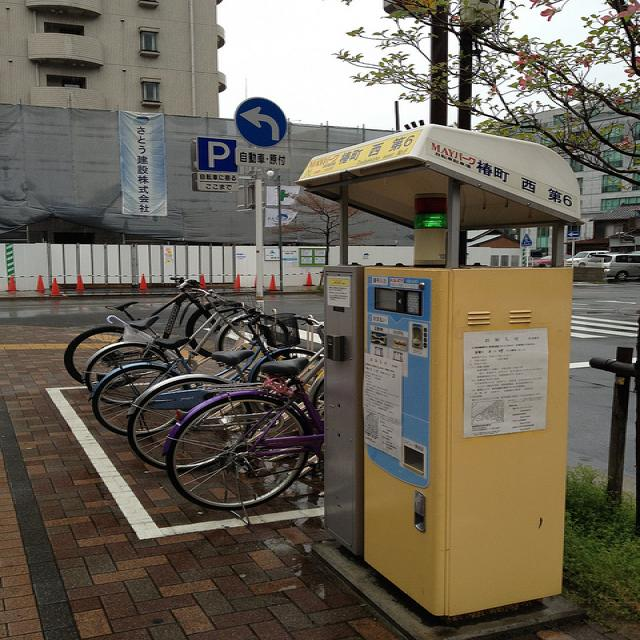Vehicle: (593, 253, 639, 282), (563, 251, 609, 268), (523, 255, 553, 268)
